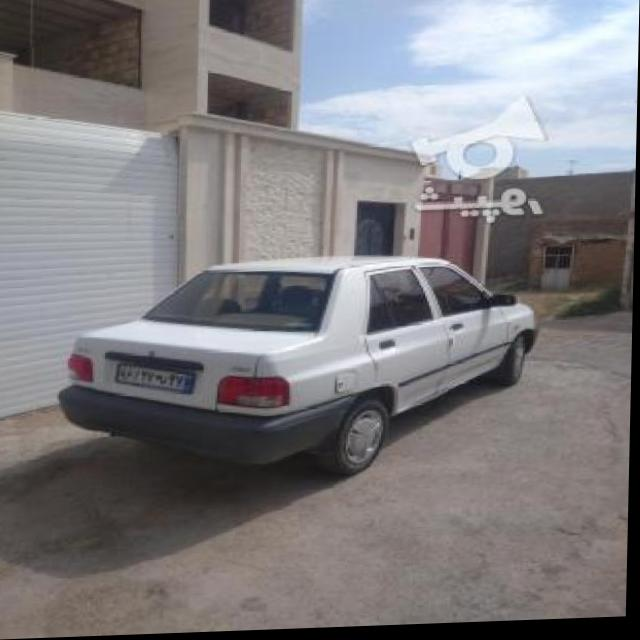licence: (116, 359, 197, 398)
